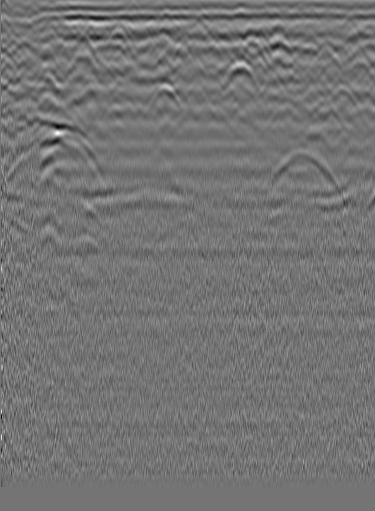가스: (65, 188, 374, 212)
